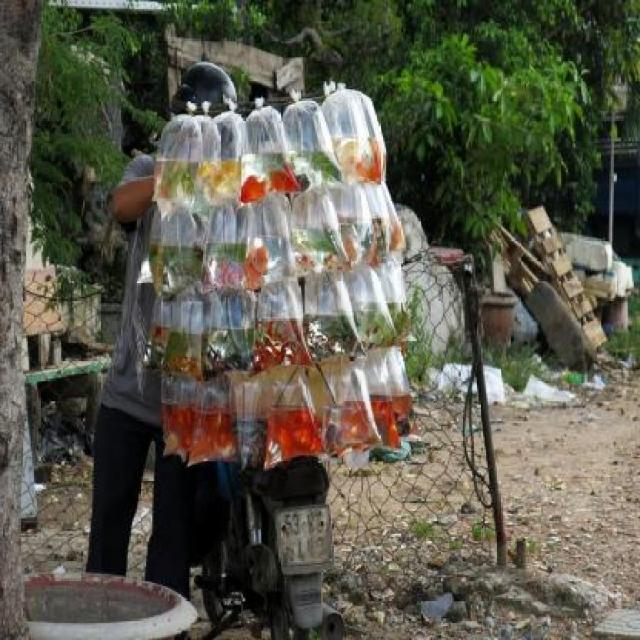plastic bag: (149, 76, 423, 470)
